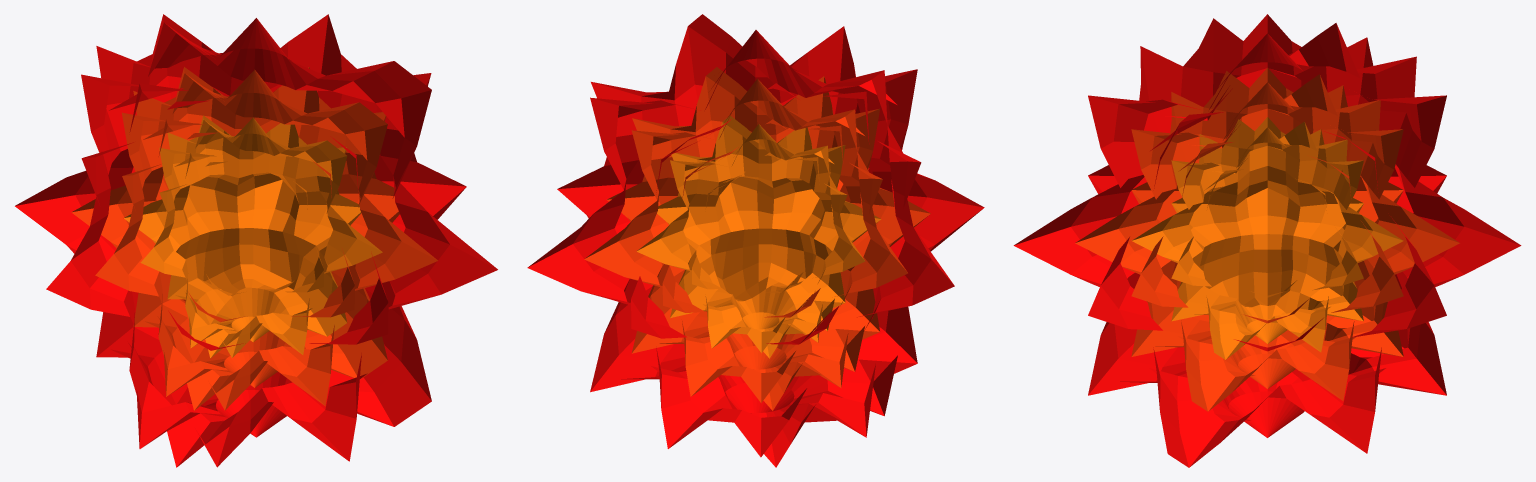
Rendered from explosion1.glb.
3 views of the same model, side by side, from view 1: azimuth 30°, elevation 25°; view 2: azimuth 150°, elevation 25°; view 3: azimuth 270°, elevation 25° (orthographic). The views are drawn at different scales.
Visible parts, largest first — view 1: Sphere.002_4, Sphere.001_3, Sphere_2; view 2: Sphere.002_4, Sphere_2, Sphere.001_3; view 3: Sphere.002_4, Sphere_2, Sphere.001_3.
Part boxes in pixels (x1=…): Sphere.002_4: x1=15, y1=14, x2=497, y2=467; Sphere.001_3: x1=124, y1=115, x2=382, y2=358; Sphere_2: x1=71, y1=67, x2=437, y2=410; Sphere.002_4: x1=527, y1=14, x2=984, y2=467; Sphere_2: x1=584, y1=67, x2=930, y2=410; Sphere.001_3: x1=636, y1=115, x2=881, y2=358; Sphere.002_4: x1=1013, y1=14, x2=1521, y2=467; Sphere_2: x1=1075, y1=67, x2=1459, y2=411; Sphere.001_3: x1=1132, y1=117, x2=1403, y2=359.
Bounding box in the file's own units: 6 × 5.77 × 6.51.
1 material, 1 textured.
